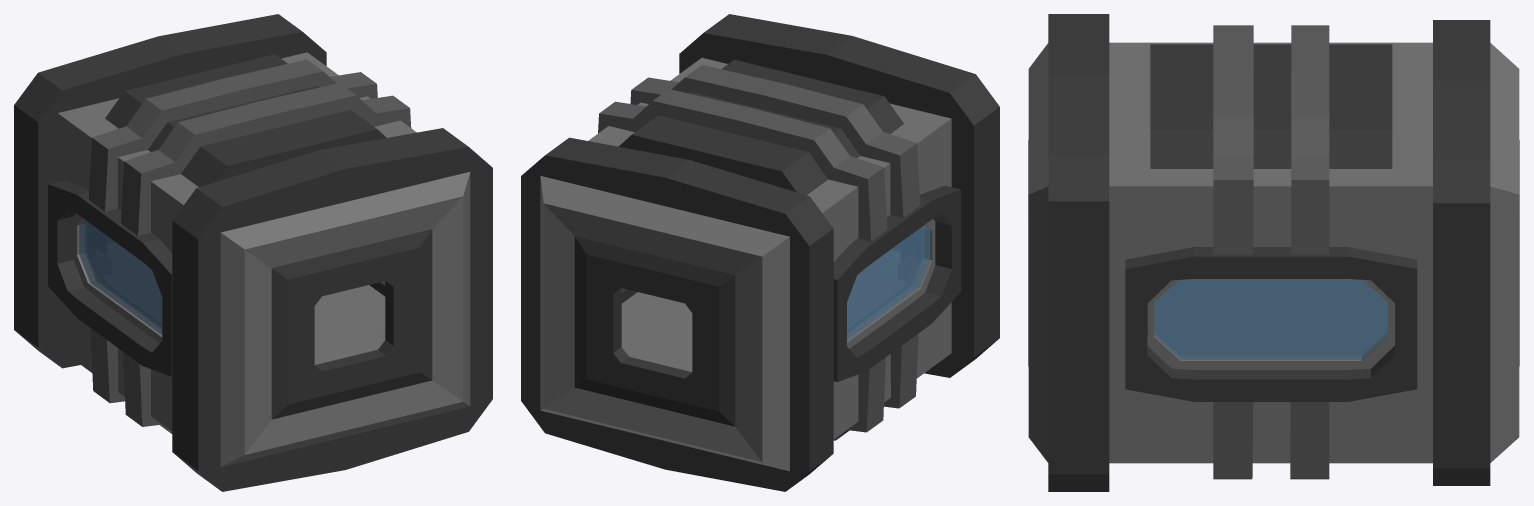
The model's file is Base_Module_01.fbx.
3 renders of one model, left to right at view 1: azimuth 30°, elevation 25°; view 2: azimuth 150°, elevation 25°; view 3: azimuth 270°, elevation 25°, orthographic. The views are drawn at different scales.
Parts seen in each view (by area): view 1: Base_Module_01; view 2: Base_Module_01; view 3: Base_Module_01.
Part boxes in pixels (bbox=[...]): Base_Module_01: bbox=[14, 14, 492, 491]; Base_Module_01: bbox=[521, 14, 999, 491]; Base_Module_01: bbox=[1028, 14, 1519, 491].
Bounding box in the file's own units: 1064 × 1053 × 1304.
